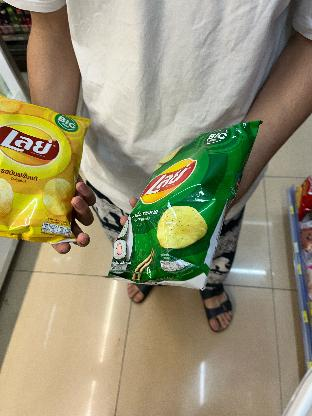Plastic Packaging: (105, 112, 268, 290), (0, 92, 92, 248)
